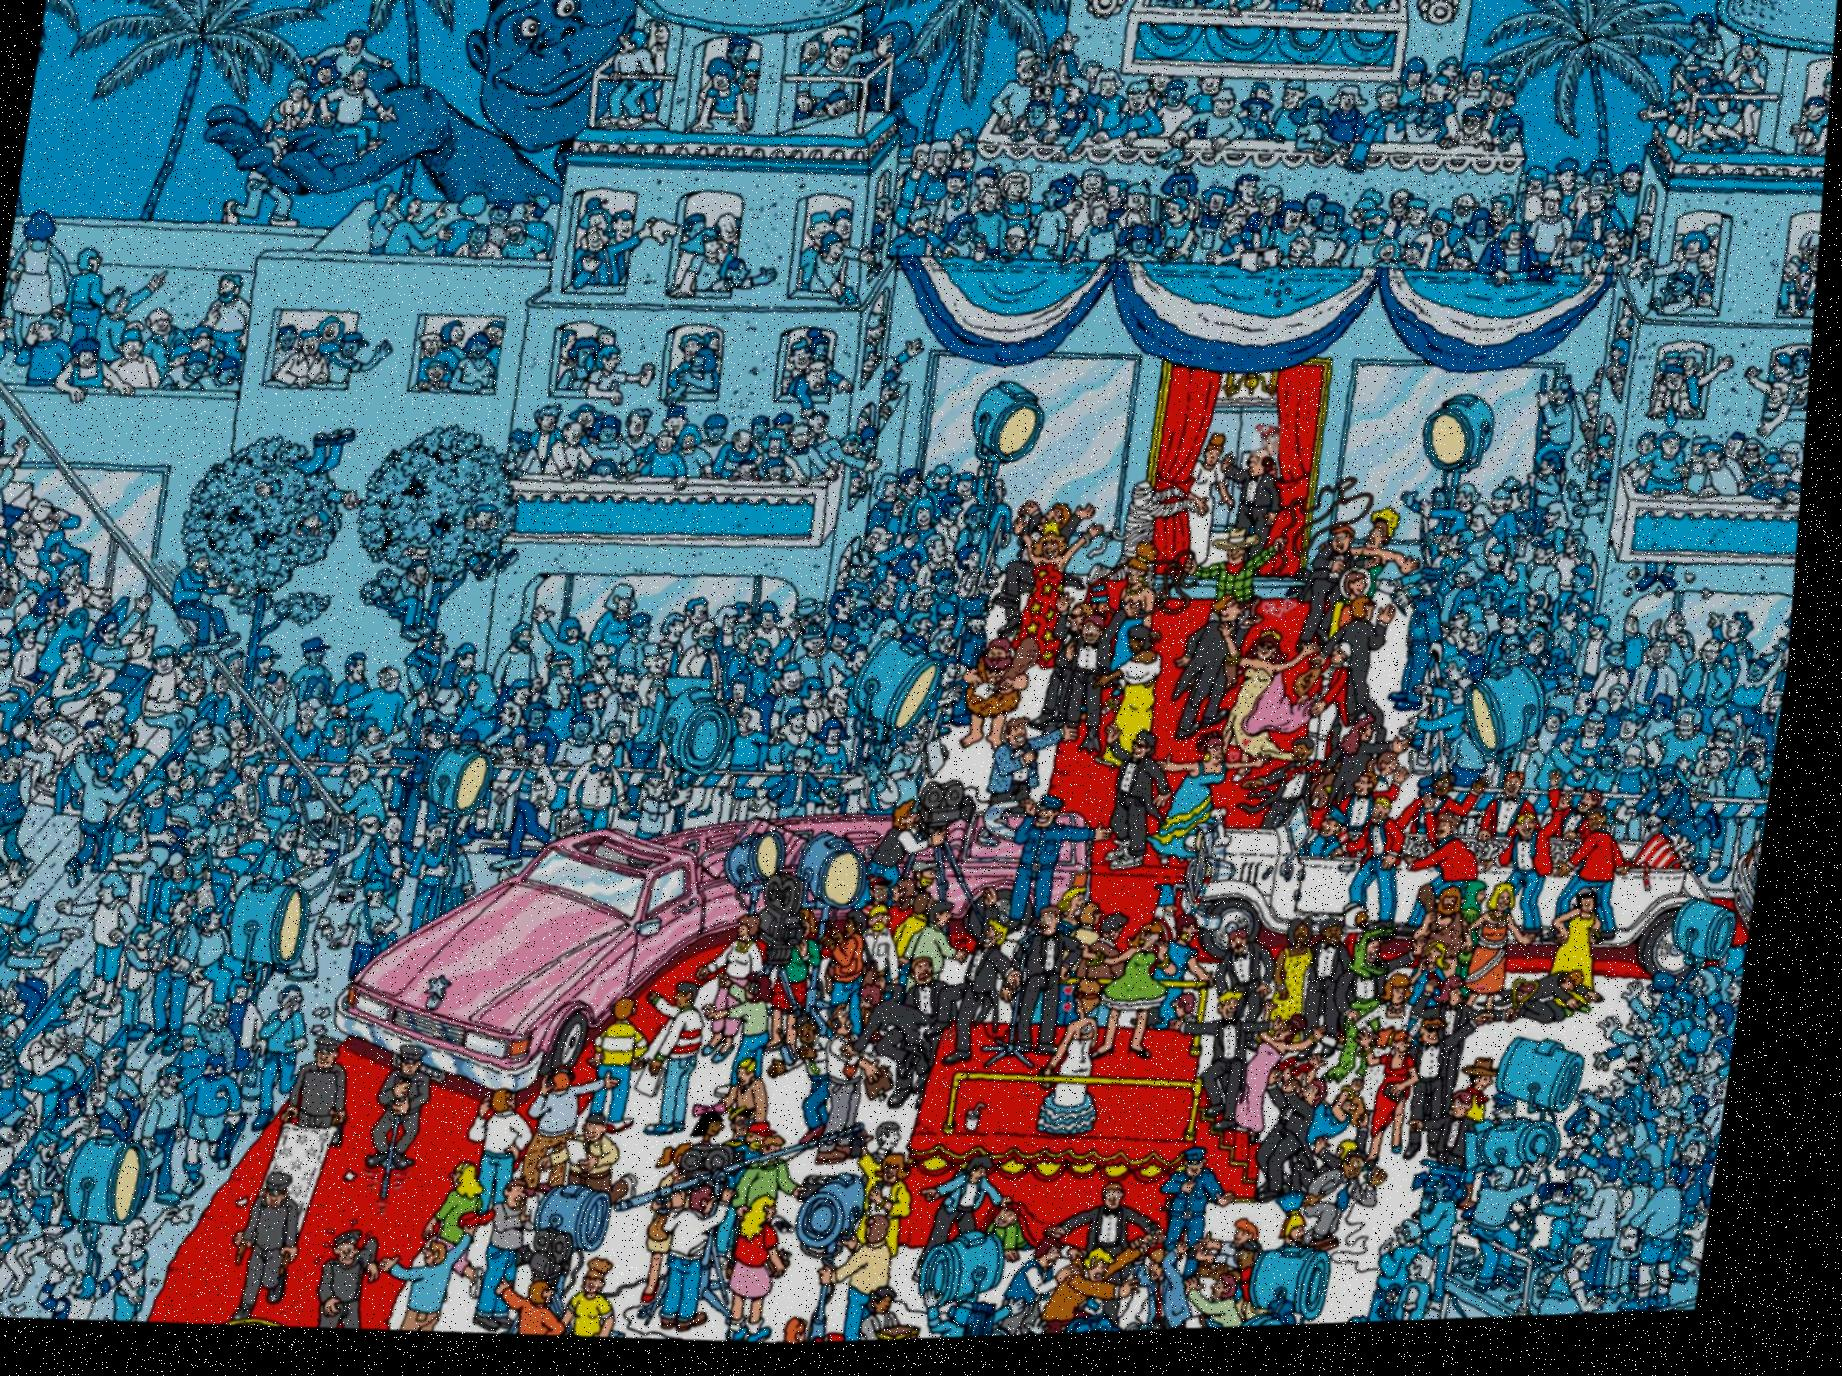waldo: (1257, 432, 1290, 467)
